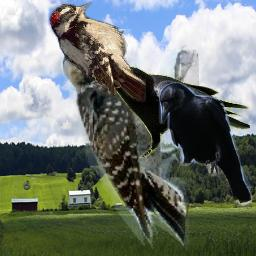Crow: (91, 66, 250, 158), (158, 82, 252, 209)
Woodpecker: (59, 29, 199, 250), (49, 2, 146, 102)
